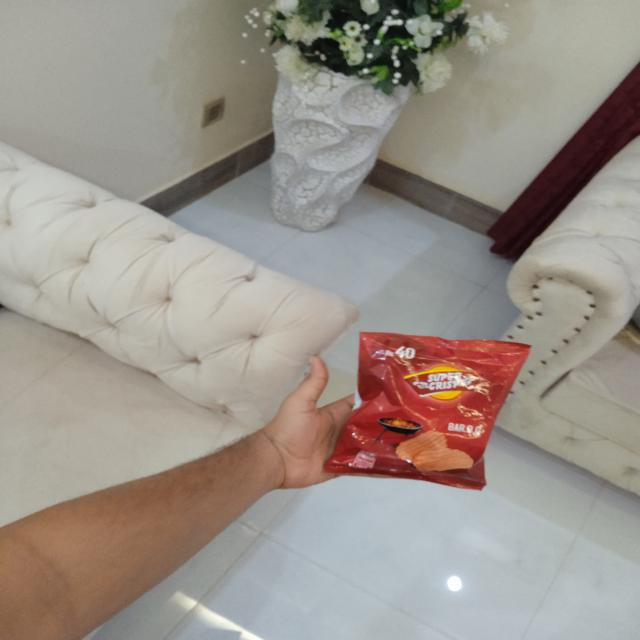Plastic: (359, 340, 509, 477)
